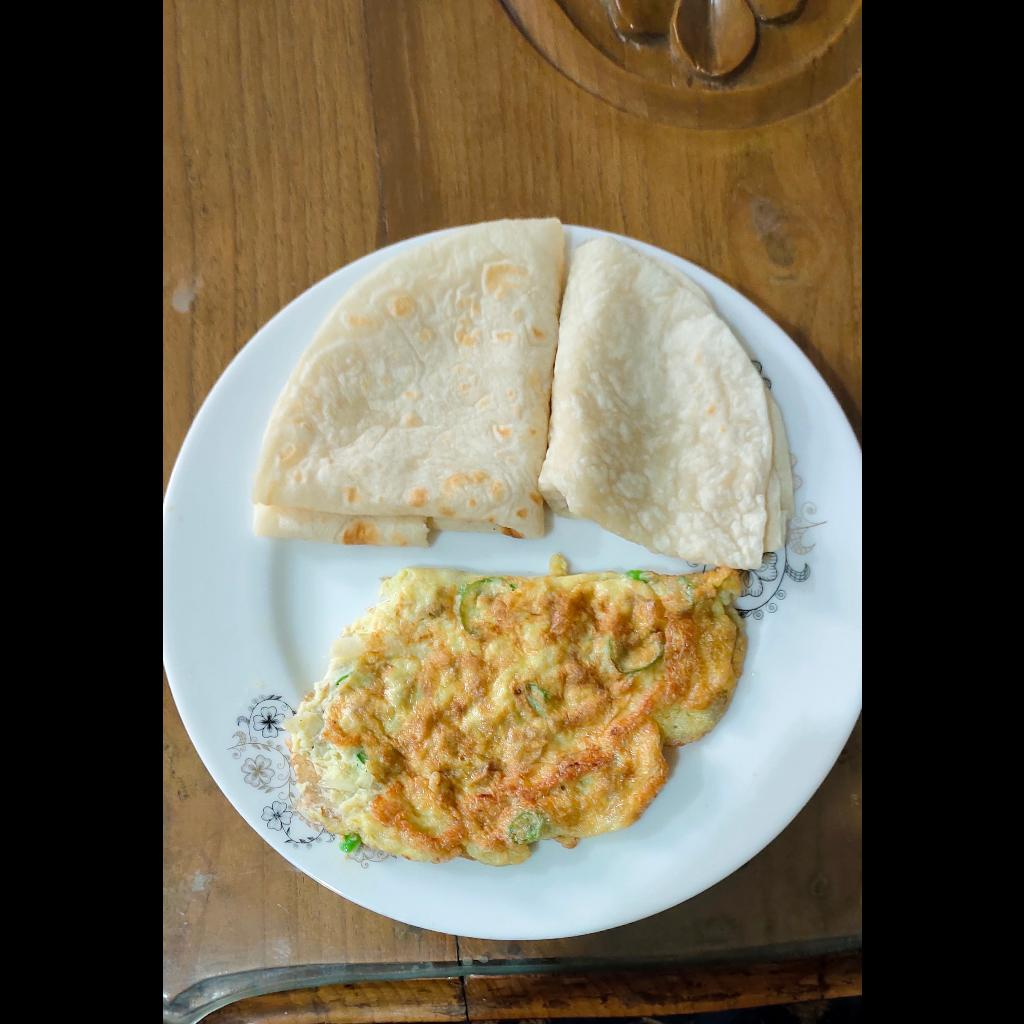egg-poached: (285, 560, 752, 875)
ruti: (245, 210, 794, 574)
